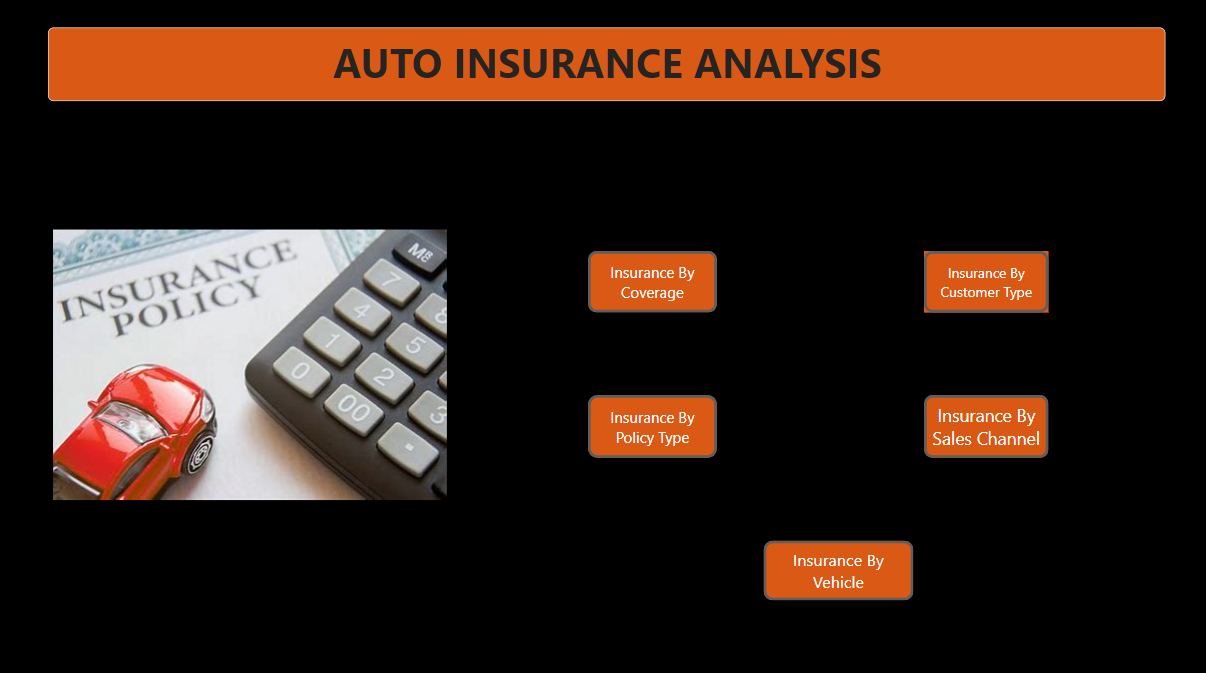

The page's visual inventory and layout, read from the dashboard file:
{"tool":"powerbi","page":{"name":"Landing Page","canvas":[1280,720],"ordinal":0},"visuals":[{"type":"textbox","box":[50.9,30.2,1184.1,77.9],"z":1000},{"type":"actionButton","box":[623,267,136.7,65.2],"z":2000},{"type":"actionButton","box":[979.1,267,131.9,65.2],"z":3000},{"type":"actionButton","box":[623,419.6,136.7,66.8],"z":4000},{"type":"actionButton","box":[979.1,419.6,131.9,66.8],"z":5000},{"type":"actionButton","box":[809,573.8,158.9,63.6],"z":6000},{"type":"image","box":[50.9,138.3,427.5,499.1],"z":7000}]}

Visuals, with their boxes in screenshot pixels (x1, y1, x2, y2), scaled from the page's 1280x720 canvas onto the 1206x673 screenshot:
textbox: [48,28,1164,101]
actionButton: [587,250,716,311]
actionButton: [922,250,1047,311]
actionButton: [587,392,716,455]
actionButton: [922,392,1047,455]
actionButton: [762,536,912,596]
image: [48,129,451,596]
